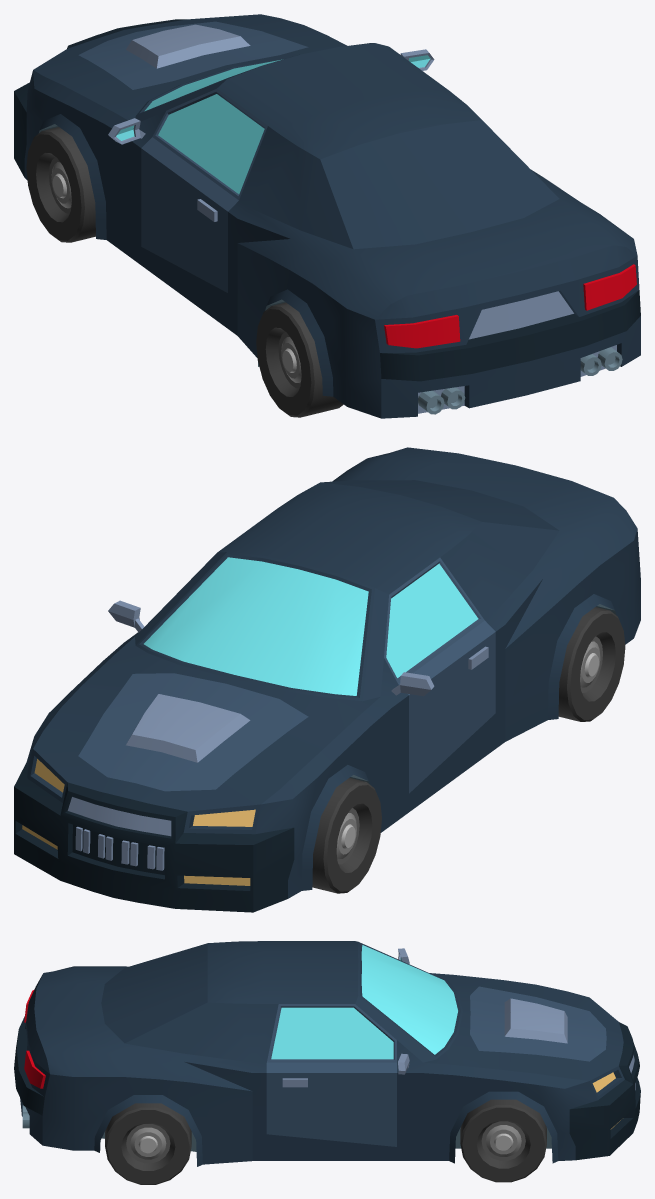
The model's file is Car_1.fbx.
3 views of the same model, one above another, from view 1: azimuth 30°, elevation 25°; view 2: azimuth 150°, elevation 25°; view 3: azimuth 270°, elevation 25° (orthographic). The views are drawn at different scales.
Visible parts, largest first — view 1: Body, Door_Left, Hood, Wheel_ForwardLeft, Wheel_BackLeft; view 2: Body, Hood, Door_Left, Wheel_ForwardLeft, Wheel_BackLeft; view 3: Body, Door_Right, Hood, Wheel_ForwardRight, Wheel_BackRight.
Part boxes in pixels (box(x1,y1,x2,y2)): Body: box(14, 14, 640, 418); Door_Left: box(141, 88, 267, 292); Hood: box(78, 21, 308, 89); Wheel_ForwardLeft: box(26, 127, 95, 242); Wheel_BackLeft: box(256, 302, 343, 417); Body: box(14, 447, 640, 912); Hood: box(78, 673, 308, 791); Door_Left: box(384, 557, 495, 793); Wheel_ForwardLeft: box(312, 778, 381, 893); Wheel_BackLeft: box(558, 607, 625, 721); Body: box(14, 941, 640, 1166); Door_Right: box(266, 1004, 396, 1146); Hood: box(470, 986, 606, 1061); Wheel_ForwardRight: box(460, 1099, 546, 1182); Wheel_BackRight: box(105, 1103, 191, 1184).
Size of the model in its own units: 2.37 by 5.29 by 1.53.
